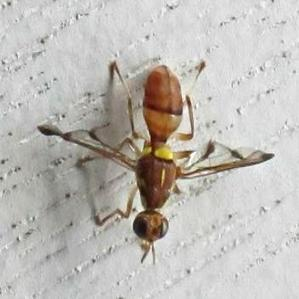melon fly: (30, 34, 264, 281)
